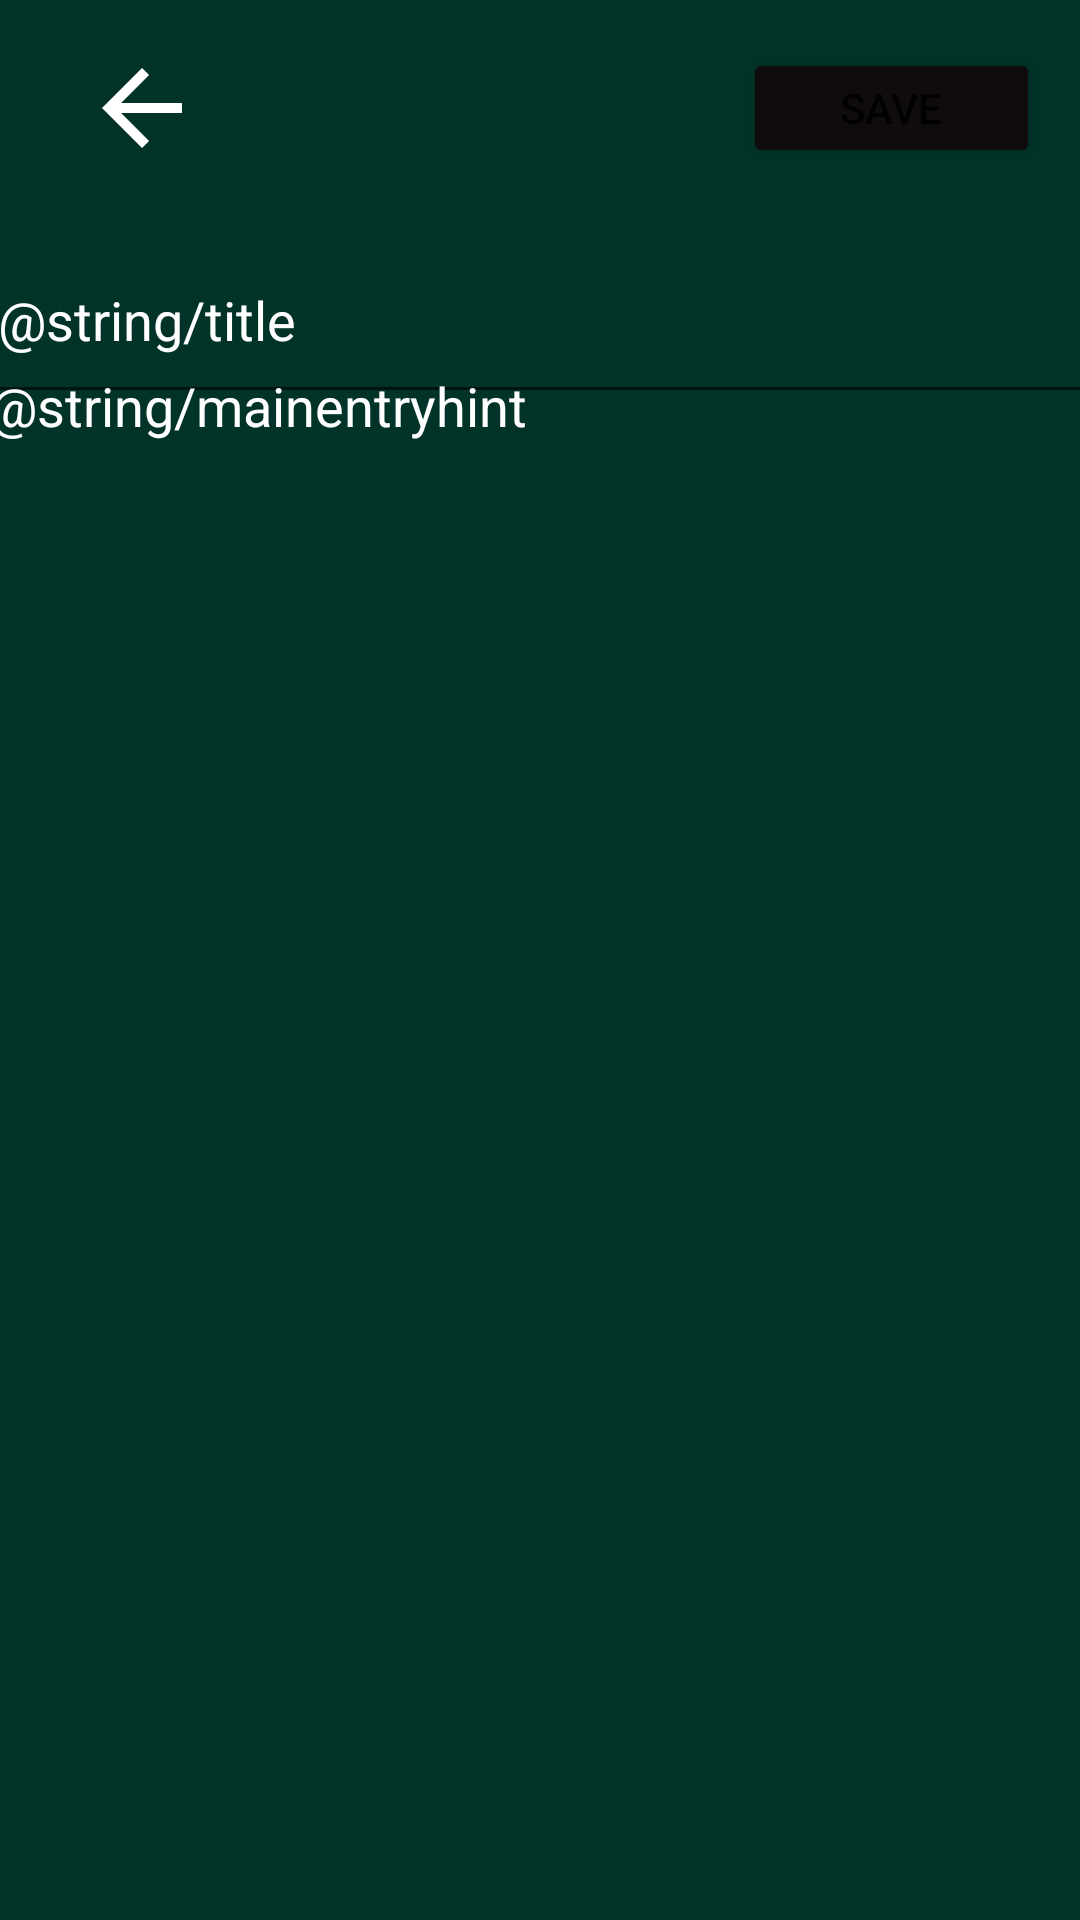

Where to tap for icons on this 1080 x 1920 app screen, as point (x, y):
back: point (142, 108)
